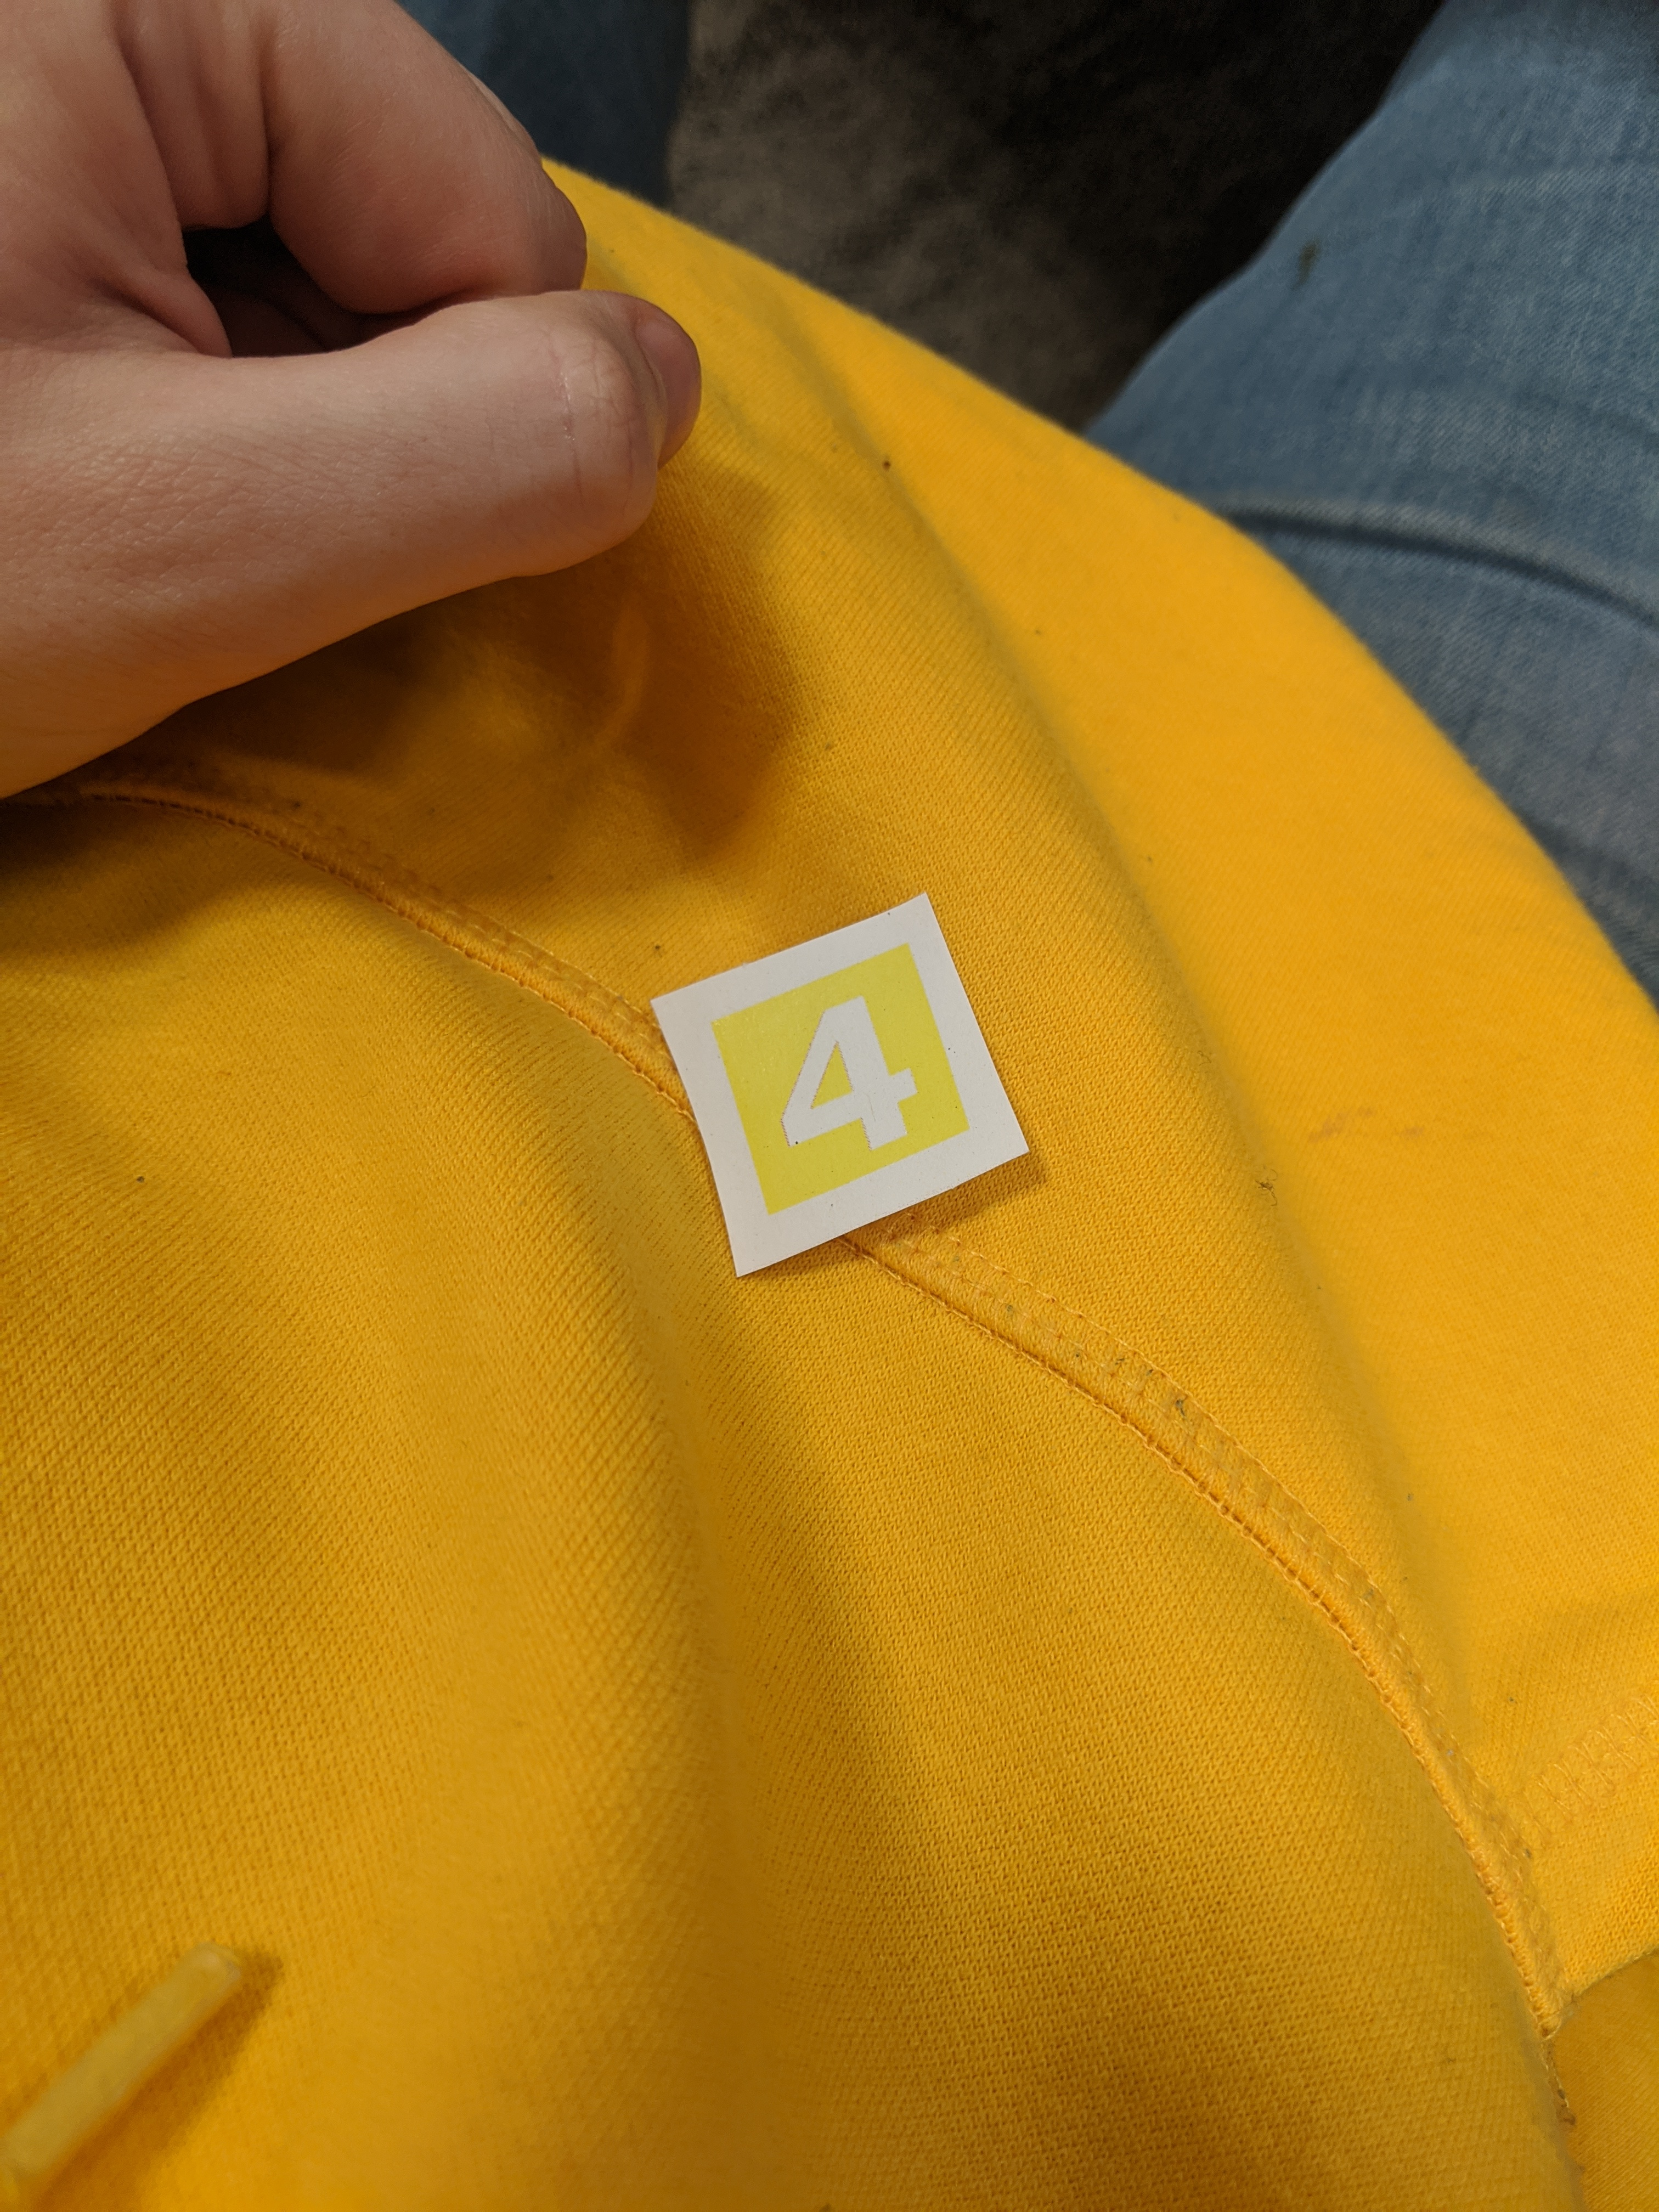marker: (638, 883, 1037, 1277)
